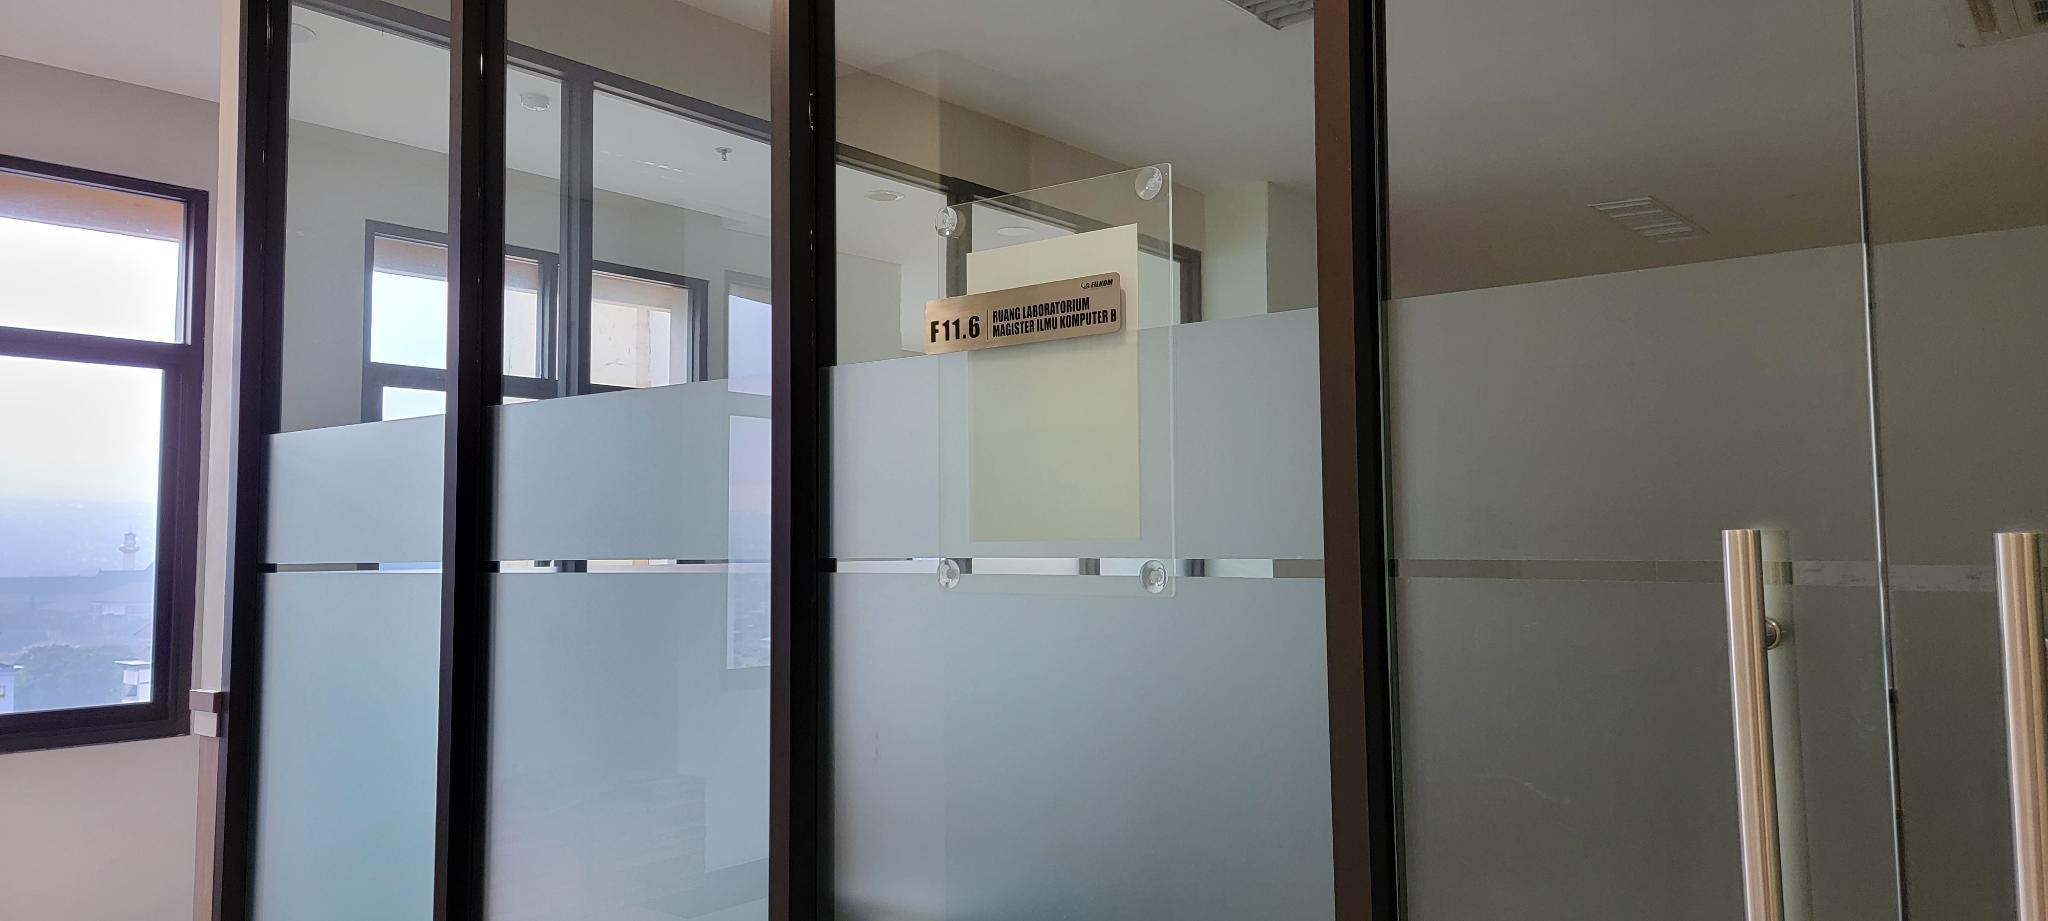plate: (923, 273, 1125, 359)
